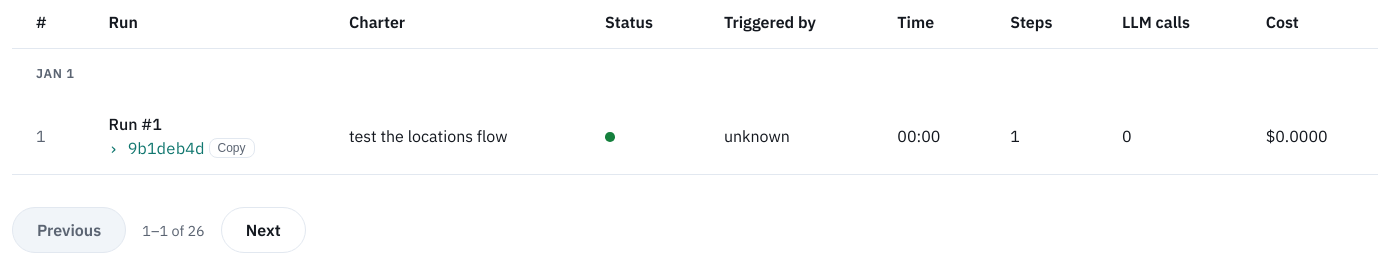
Test case: RunHistory — list restructuring (run-number, date-grouping, pagination) › shows a global run-number continuing from the page offset, not resetting per page
Expected: the text "test the locations flow" is shown, [325,98,581,174]
Expected: the cell with class "run-history__number" reads "1", [36,126,46,146]
Click the button "Next". click: (263, 230)
box: [221,207,306,253]
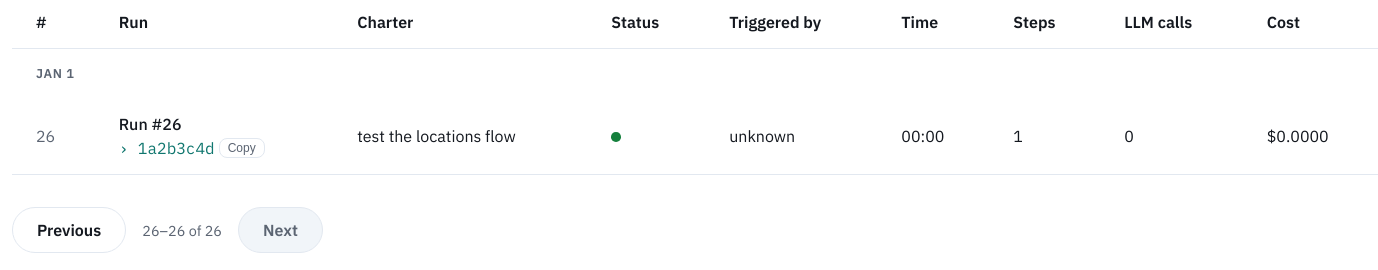
Result: the cell with class "run-history__number" reads "26" at [36,126,55,146]
